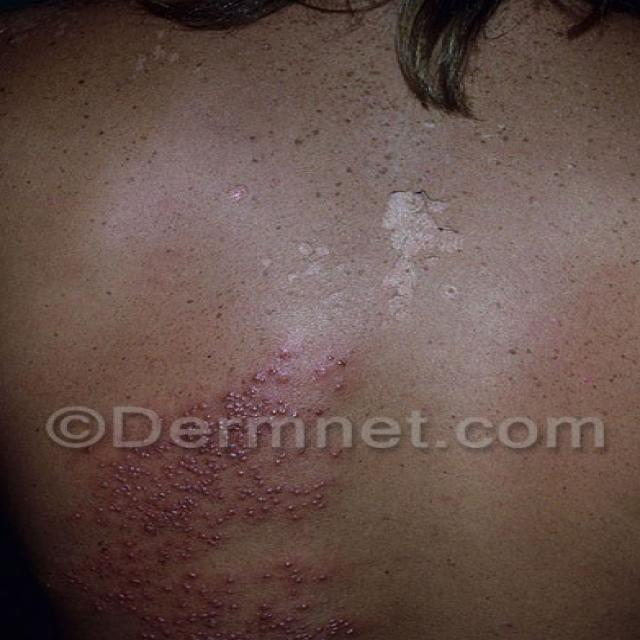Viral Infections: (3, 407, 435, 640)
